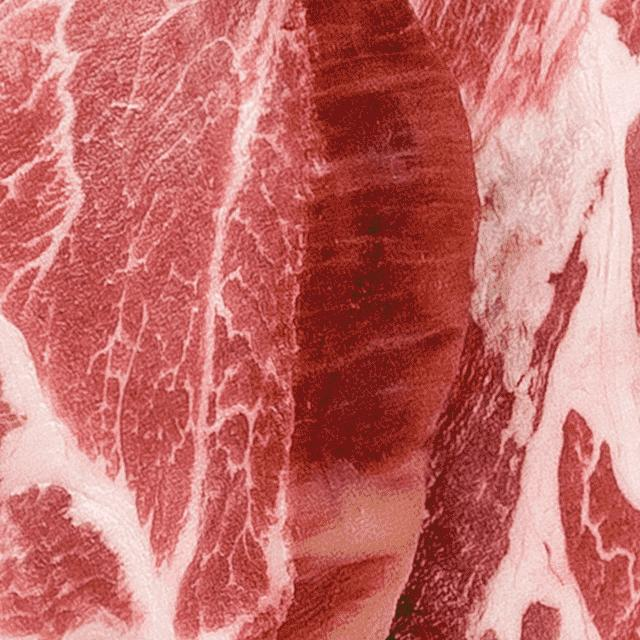beef: (150, 0, 640, 640), (0, 0, 482, 640)
